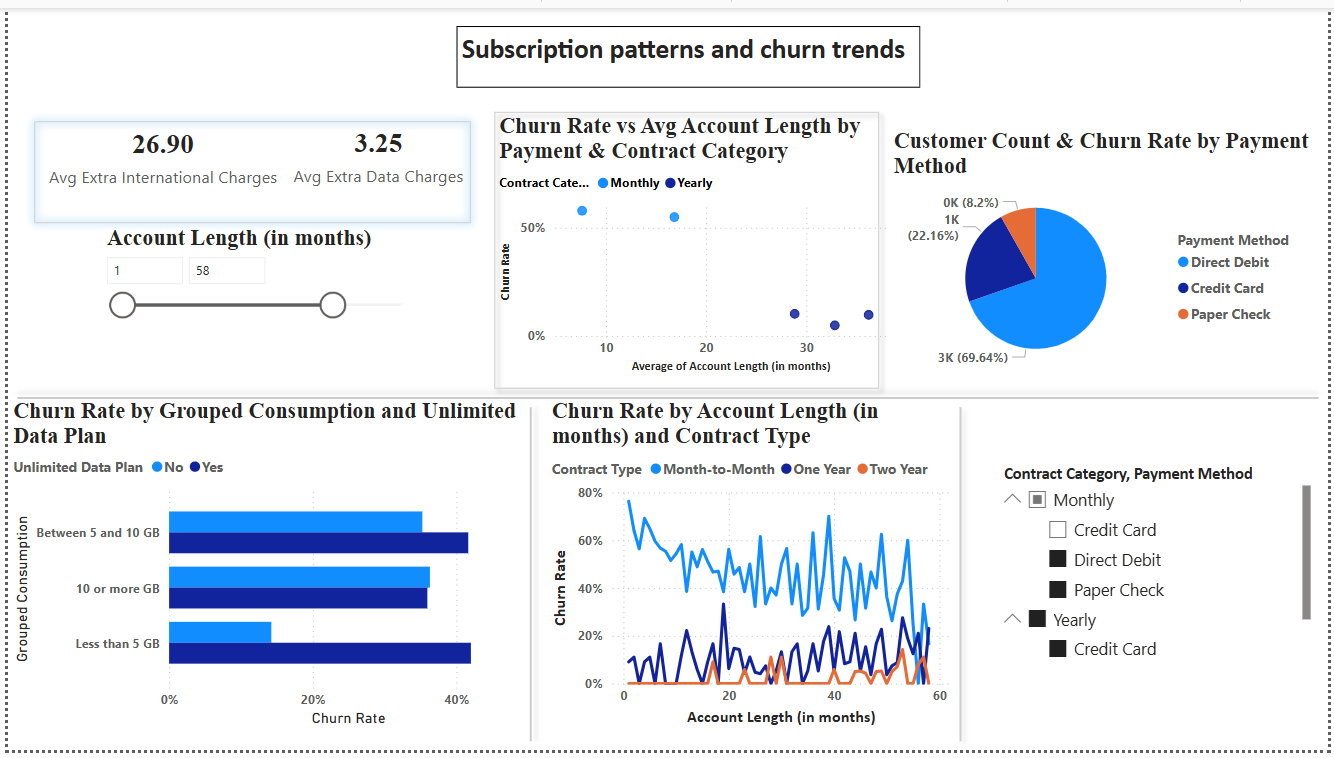

This screenshot's page, from the dashboard's own definition file:
{"tool":"powerbi","page":{"name":"Page 3","canvas":[1280,720],"ordinal":2},"visuals":[{"type":"card","fields":{"Values":["Databel - Data.Avg Extra Data Charges"]},"box":[268.8,102,179.7,77.7],"z":0},{"type":"card","fields":{"Values":["Databel - Data.Avg Extra International Charges"]},"box":[32.4,102,236.4,79.3],"z":1000},{"type":"clusteredBarChart","fields":{"Y":["Databel - Data.Churn Rate"],"Series":["Databel - Data.Unlimited Data Plan"],"Category":["Databel - Data.Grouped Consumption"]},"box":[0,378.4,522.5,323.1],"z":2000},{"type":"scatterChart","title":"Churn Rate vs Avg Account Length by Payment & Contract Category","fields":{"Category":["Databel - Data.Payment Method"],"Y":["Databel - Data.Churn Rate"],"X":["Avg(Databel - Data.Account Length (in months))"],"Series":["Databel - Data.Contract Category1"]},"box":[471.6,101.9,411.9,257.6],"z":3000},{"type":"lineChart","fields":{"Y":["Databel - Data.Churn Rate"],"Category":["Databel - Data.Account Length (in months)"],"Series":["Databel - Data.Contract Type"]},"box":[522.5,378.4,395.9,323.1],"z":4000},{"type":"slicer","fields":{"Values":["Databel - Data.Contract Category1","Databel - Data.Payment Method"]},"box":[953.4,436.7,315.9,205.2],"z":5000},{"type":"slicer","fields":{"Values":["Databel - Data.Account Length (in months)"]},"box":[83,205.2,321.7,154.3],"z":6000},{"type":"pieChart","title":"Customer Count & Churn Rate by Payment Method","fields":{"Category":["Databel - Data.Payment Method"],"Y":["Databel - Data.number of customers"]},"box":[854.4,116.4,416.3,243.1],"z":7000},{"type":"textbox","box":[435.2,17.5,460,43.7],"z":8000},{"type":"shape","box":[435.6,17.8,450.1,59.9],"z":9000},{"type":"shape","box":[17.5,101.9,439.6,115],"z":10000},{"type":"shape","box":[462.9,378.4,88.8,342.1],"z":11000},{"type":"shape","box":[0,342.1,1280.9,72.8],"z":12000},{"type":"shape","box":[895.2,378.4,58.2,342.1],"z":13000},{"type":"shape","box":[462.9,91.7,391.5,286.7],"z":14000}]}

Visuals, with their boxes in screenshot pixels (x1, y1, x2, y2), scaled from the page's 1280x720 canvas onto the 1334x758 screenshot:
card - Databel - Data.Avg Extra Data Charges: 280:107:467:189
card - Databel - Data.Avg Extra International Charges: 34:107:280:191
clusteredBarChart - Databel - Data.Churn Rate x Databel - Data.Unlimited Data Plan: 0:398:545:739
"Churn Rate vs Avg Account Length by Payment & Contract Category" scatterChart: 491:107:921:378
lineChart - Databel - Data.Churn Rate x Databel - Data.Account Length (in months): 545:398:957:739
slicer - Databel - Data.Contract Category1 x Databel - Data.Payment Method: 994:460:1323:676
slicer - Databel - Data.Account Length (in months): 87:216:422:378
"Customer Count & Churn Rate by Payment Method" pieChart: 890:123:1324:378
textbox: 454:18:933:64
shape: 454:19:923:82
shape: 18:107:476:228
shape: 482:398:575:757
shape: 0:360:1333:437
shape: 933:398:994:757
shape: 482:97:890:398
